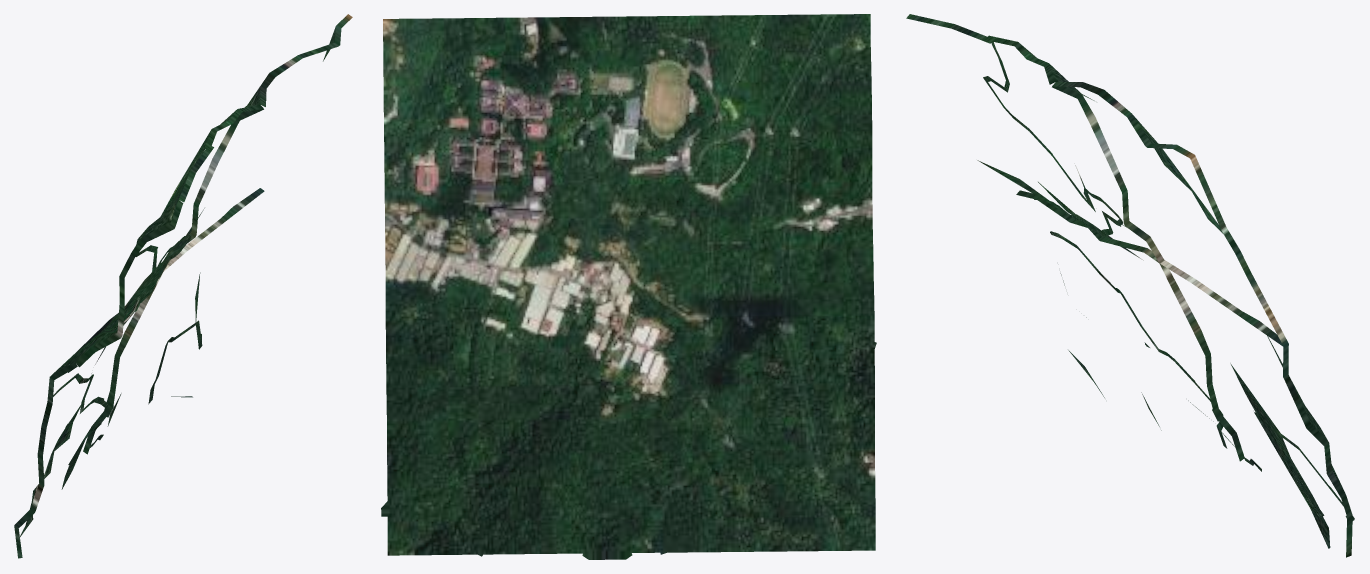
3 renders of one model, left to right at view 1: azimuth 30°, elevation 25°; view 2: azimuth 150°, elevation 25°; view 3: azimuth 270°, elevation 25°, orthographic. The views are drawn at different scales.
Bounding box in the file's own units: 1149 × 1180 × 1059.
Materials: 1 (1 with a texture image).
